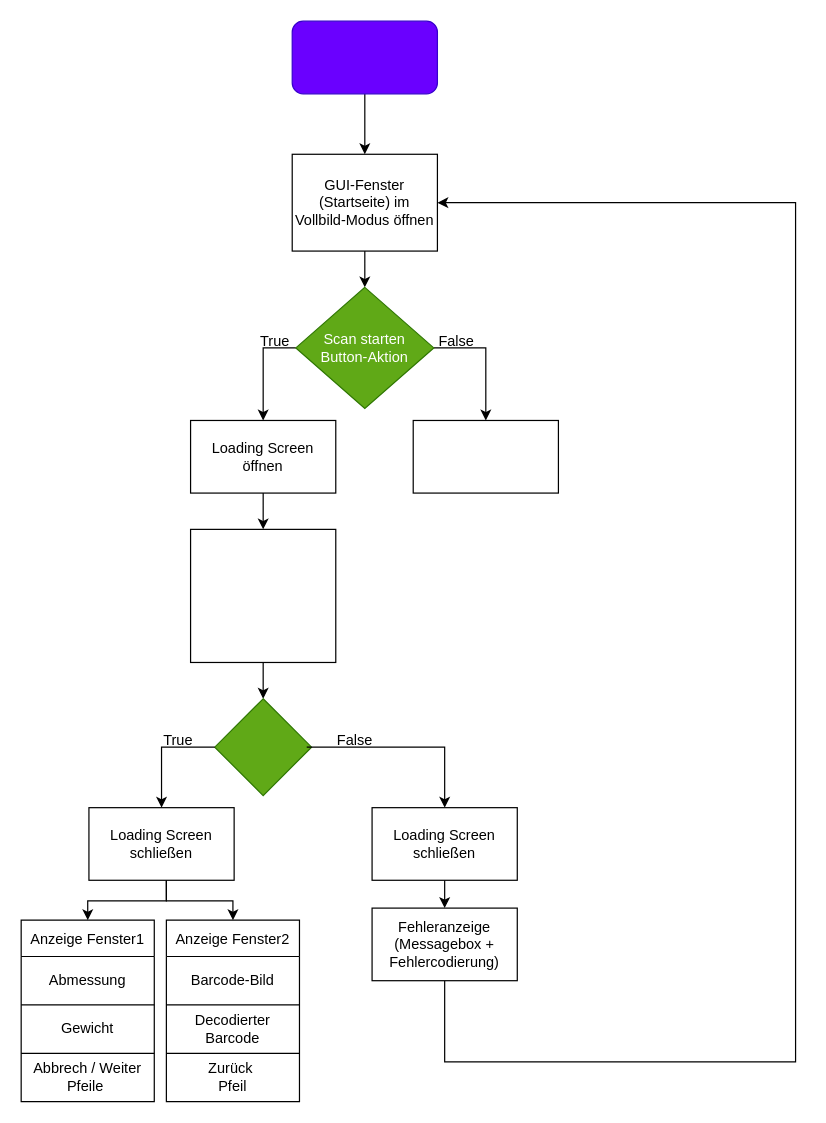
This 826x1123 diagram has some shape labels left out. The shapes that lost their labels are listed below. From the top down, each one's centre as x and y in pixels, then its label:
At (x=364, y=57): "Autostart durch Raspy".
At (x=485, y=456): "Wartet auf eine Aktion".
At (x=262, y=595): "Nebenläufig: Barcode-decodierung Imageverarbeitung Größenmessung Gewichtsmessung".
At (x=263, y=747): "Erfolgreich gescannt".
